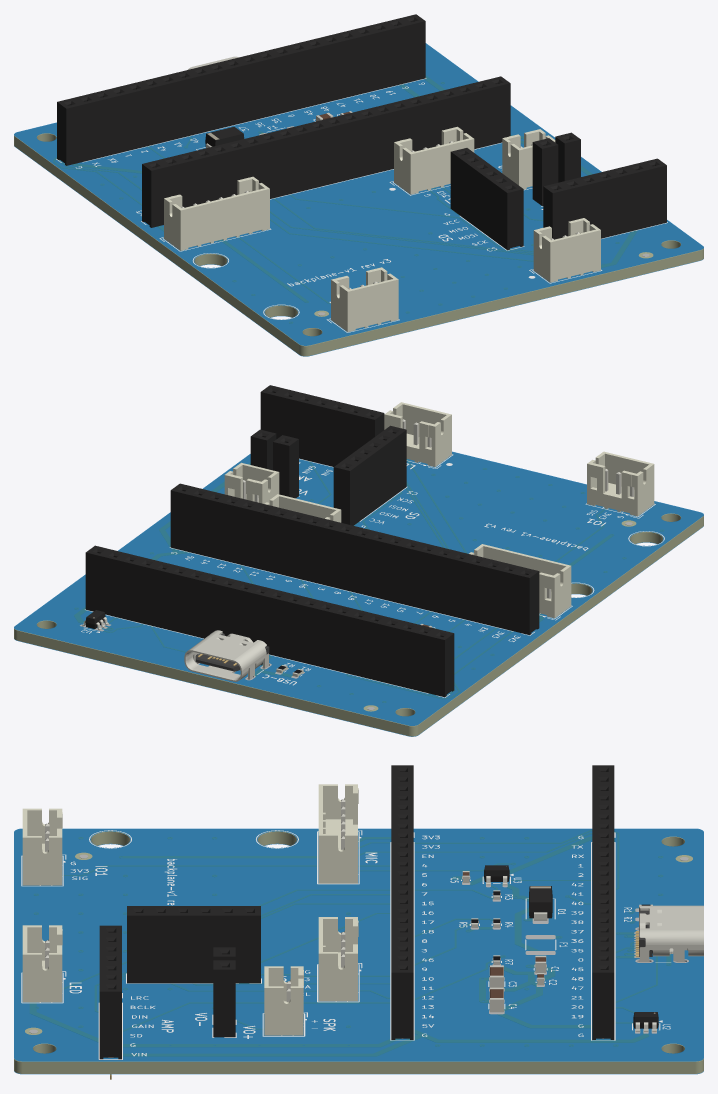
The model's file is board.glb.
The picture shows the model from 3 angles, top to bottom: view 1: azimuth 30°, elevation 25°; view 2: azimuth 150°, elevation 25°; view 3: azimuth 270°, elevation 25°; orthographic projection. The views are drawn at different scales.
Parts seen in each view (by area): view 1: board-body, soldermask-top, J_U1B, J_U1A, J_A1, J_S1, J_MIC, J_LED, J_IO1, J_I2C1, silkscreen-top, copper-tracks-top (+5 smaller); view 2: board-body, soldermask-top, J_U1A, J_U1B, J_A1, J_S1, J_IO1, J_PWR, J_LED, J_MIC, silkscreen-top, J_SPK (+5 smaller); view 3: soldermask-top, board-body, J_S1, silkscreen-top, J_U1B, J_U1A, copper-tracks-top, J_MIC, J_PWR, J_I2C1, J_LED, J_IO1 (+6 smaller).
Boxes of the visible parts, box(x1,y1,x2,y2) form: board-body: box(14, 44, 703, 356); soldermask-top: box(14, 43, 703, 345); J_U1B: box(57, 14, 425, 165); J_U1A: box(142, 76, 510, 227); J_A1: box(543, 158, 666, 239); J_S1: box(450, 148, 523, 250); J_MIC: box(164, 176, 269, 250); J_LED: box(533, 218, 600, 282); J_IO1: box(331, 267, 398, 331); J_I2C1: box(394, 126, 474, 194); silkscreen-top: box(56, 78, 667, 332); copper-tracks-top: box(54, 76, 636, 322); board-body: box(14, 452, 703, 736); soldermask-top: box(14, 451, 703, 725); J_U1A: box(170, 483, 539, 634); J_U1B: box(85, 545, 454, 697); J_A1: box(260, 385, 384, 466); J_S1: box(333, 425, 406, 525); J_IO1: box(587, 451, 654, 516); J_PWR: box(184, 630, 269, 681); J_LED: box(384, 402, 451, 466); J_MIC: box(469, 544, 571, 618); silkscreen-top: box(81, 454, 664, 697); J_SPK: box(224, 462, 279, 503); soldermask-top: box(14, 828, 703, 1061); board-body: box(14, 829, 703, 1073); J_S1: box(127, 906, 260, 983); silkscreen-top: box(21, 830, 670, 1059); J_U1B: box(592, 765, 614, 1039); J_U1A: box(391, 765, 413, 1039); copper-tracks-top: box(30, 830, 670, 1055); J_MIC: box(318, 784, 358, 883); J_PWR: box(635, 905, 703, 962); J_I2C1: box(318, 917, 358, 1001); J_LED: box(22, 925, 62, 1002); J_IO1: box(22, 808, 62, 885).
Bounding box in the file's own units: 62.8 × 11.9 × 78.6.
